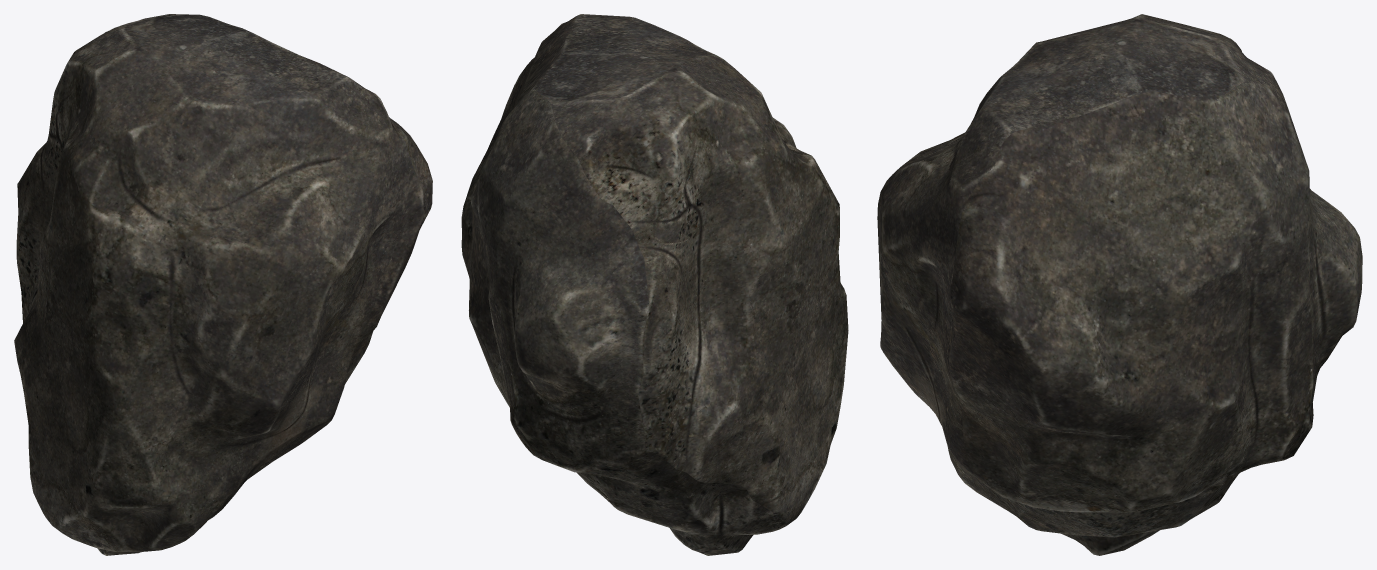
Rendered from cave_rocks_medium_01.dae.
3 views of the same model, side by side, from view 1: azimuth 30°, elevation 25°; view 2: azimuth 150°, elevation 25°; view 3: azimuth 270°, elevation 25° (orthographic). The views are drawn at different scales.
Visible parts, largest first — view 1: low; view 2: low; view 3: low.
Boxes of the visible parts, x1,y1,x2,y2 form: low: (14, 14, 432, 555); low: (461, 14, 848, 555); low: (877, 14, 1362, 555).
Size of what is drawn, in the model's own units: 1.73 by 2.32 by 1.87.
